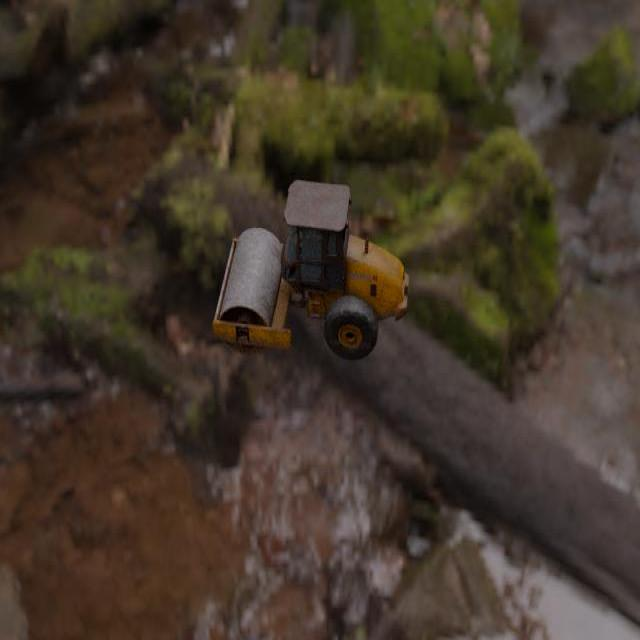Roller: (212, 179, 409, 360)
